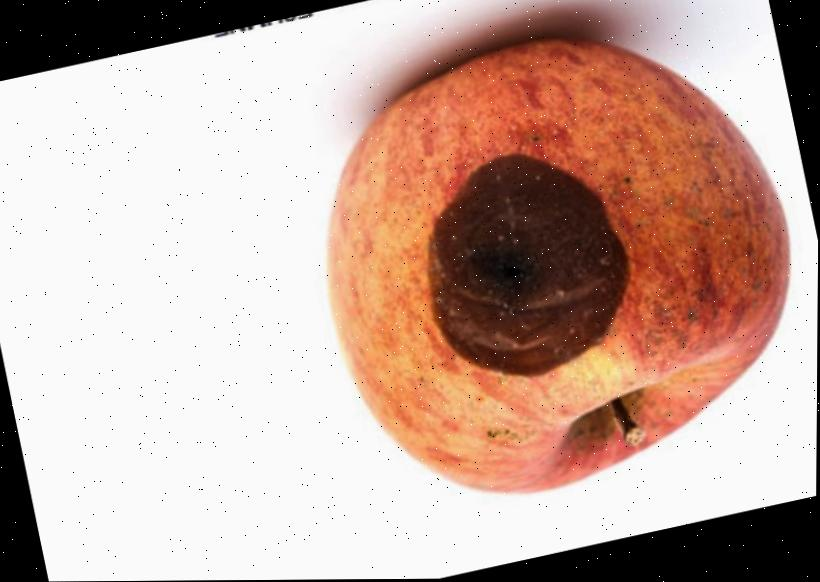ROT: (274, 0, 820, 529)
